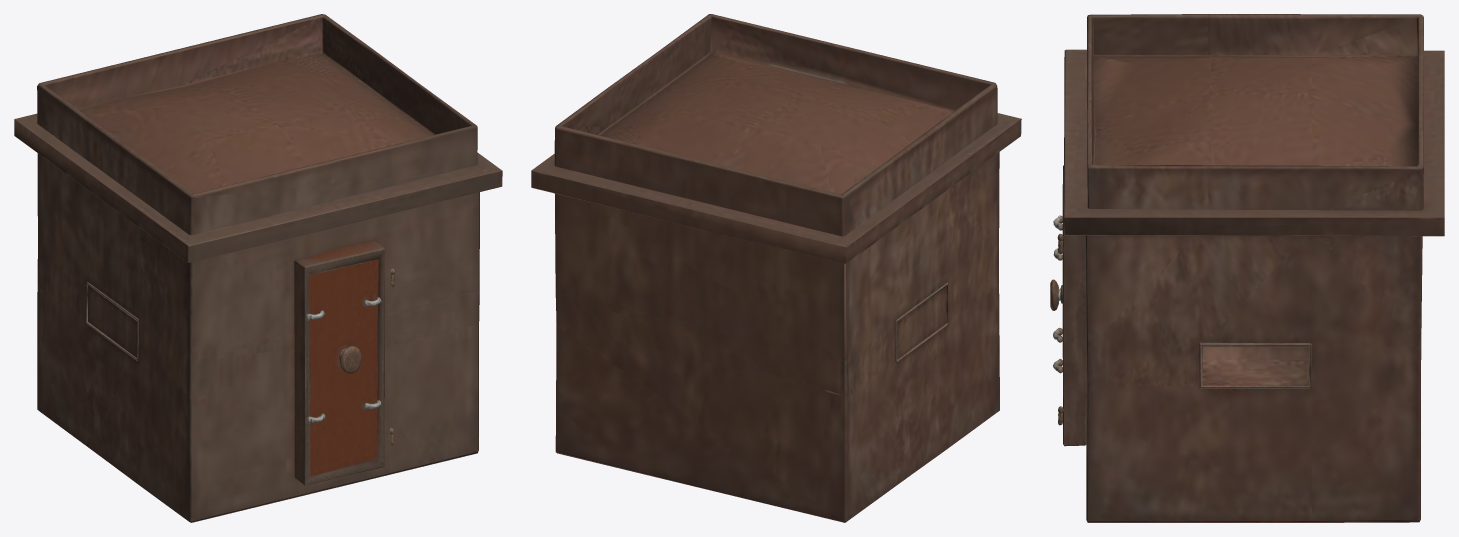
File: bunker.glb
3 renders of one model, left to right at view 1: azimuth 30°, elevation 25°; view 2: azimuth 150°, elevation 25°; view 3: azimuth 270°, elevation 25°, orthographic. The views are drawn at different scales.
Bounding box in the file's own units: 1 × 1 × 1.
Materials: 1 (1 with a texture image).
